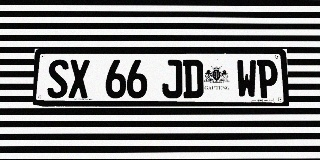6: (105, 60, 126, 98), (127, 60, 147, 98)
D: (183, 60, 204, 98)
J: (162, 60, 182, 98)
P: (257, 60, 278, 98)
S: (47, 59, 69, 98)
W: (236, 60, 257, 98)
X: (68, 59, 90, 98)
